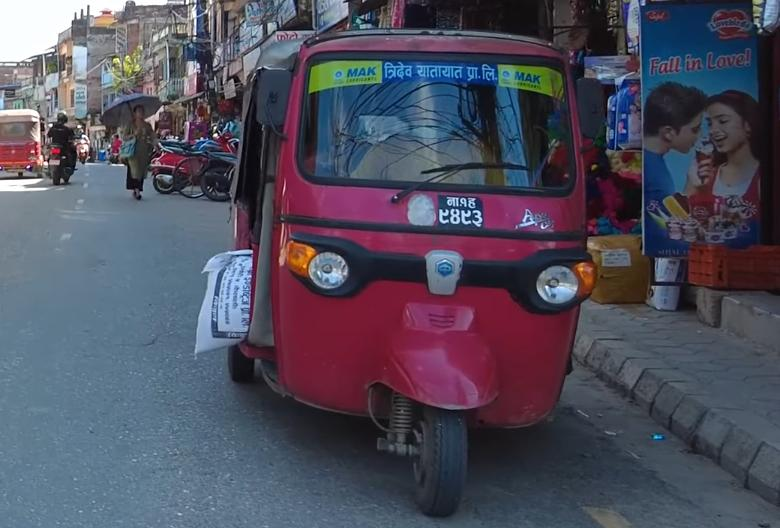auto_rickshaw: (198, 27, 598, 528), (0, 105, 45, 184)
